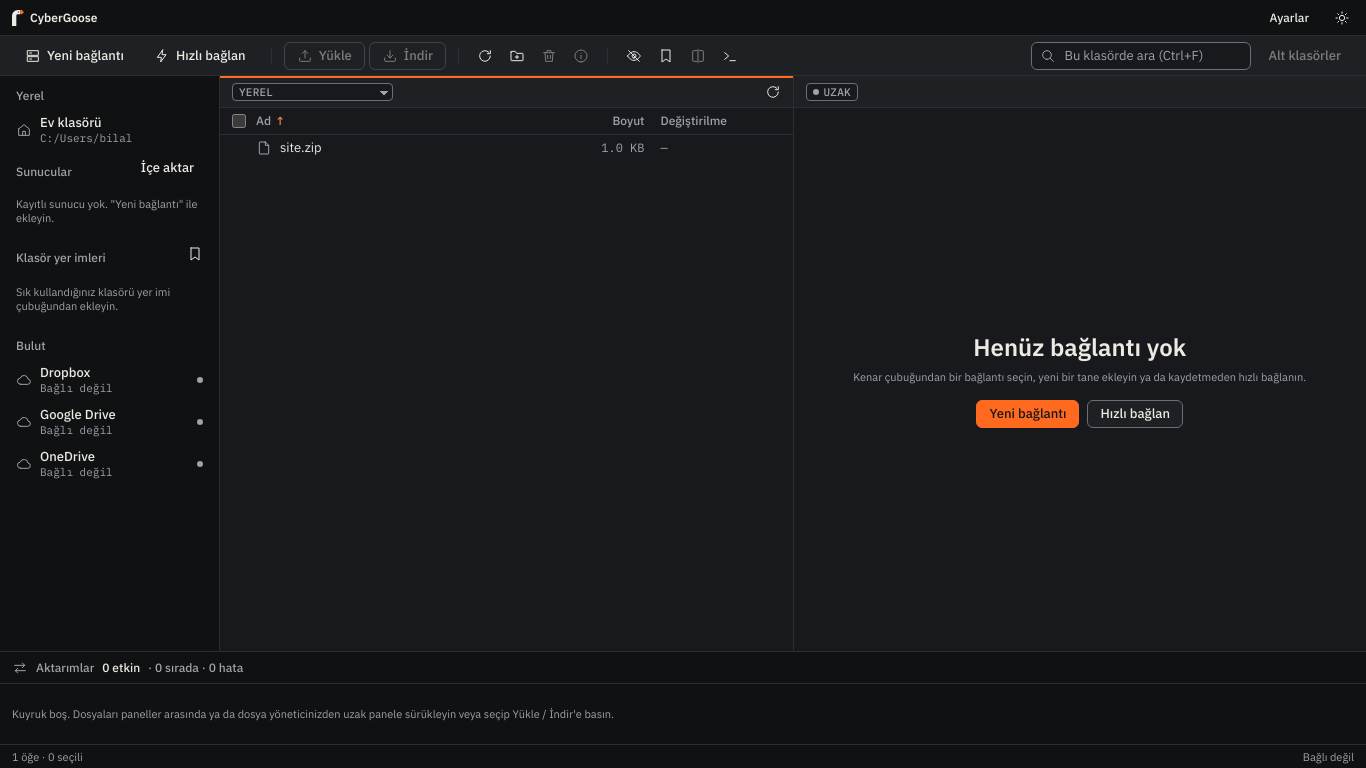
Scenario: local file actions › extracts a zip archive next to it and refreshes the folder
This screenshot has width=1366, height=768.
Right-click the text "site.zip": (301, 148) [280, 138, 322, 158]
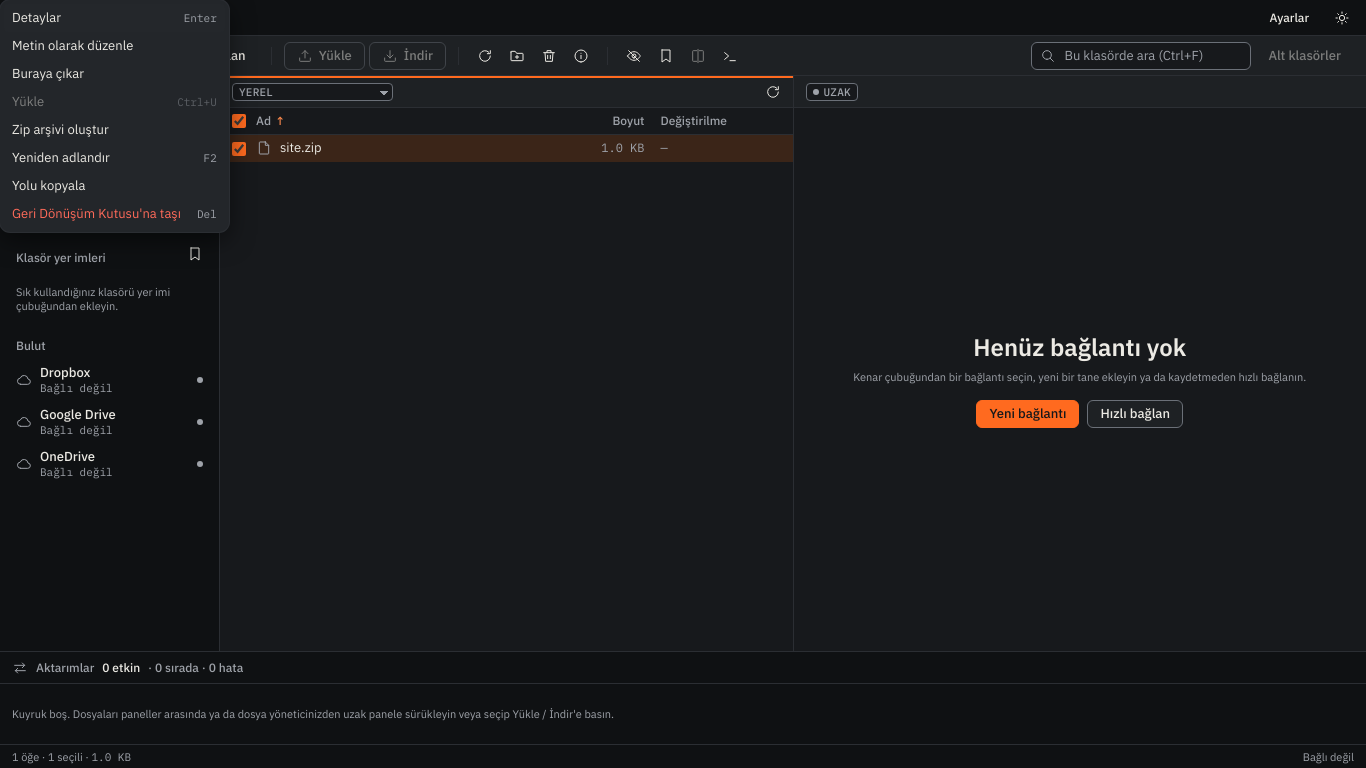
Click the menu item "Buraya çıkar": (114, 74) [4, 60, 225, 88]
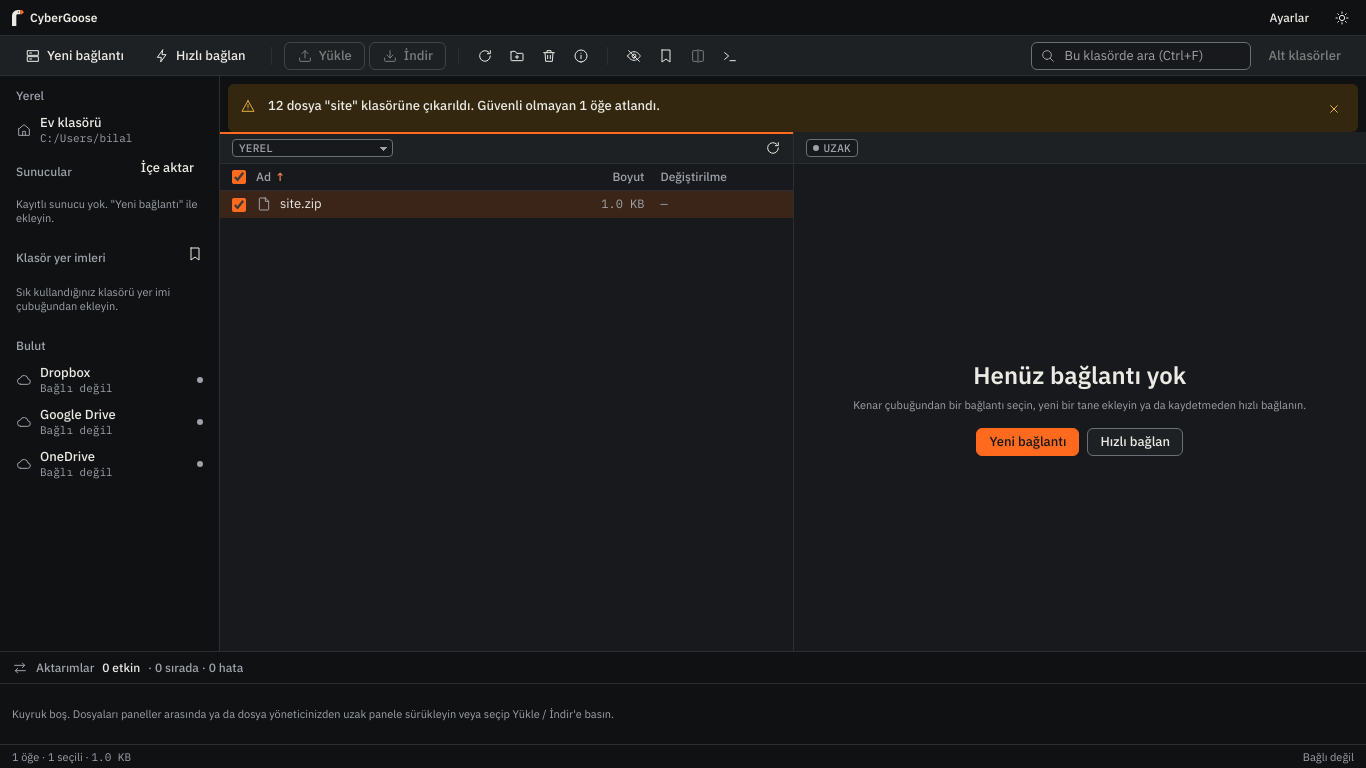
Expected: the text "12 dosya \"site\" klasörüne çıkarıldı. Güvenli olmayan 1 öğe atlandı." is shown, [268, 97, 660, 114]
